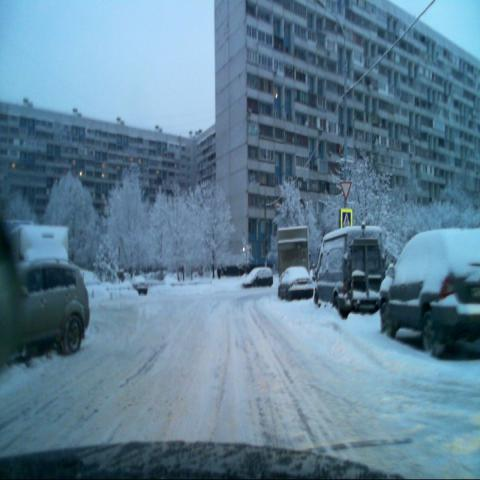2_4: (340, 178, 353, 199)
